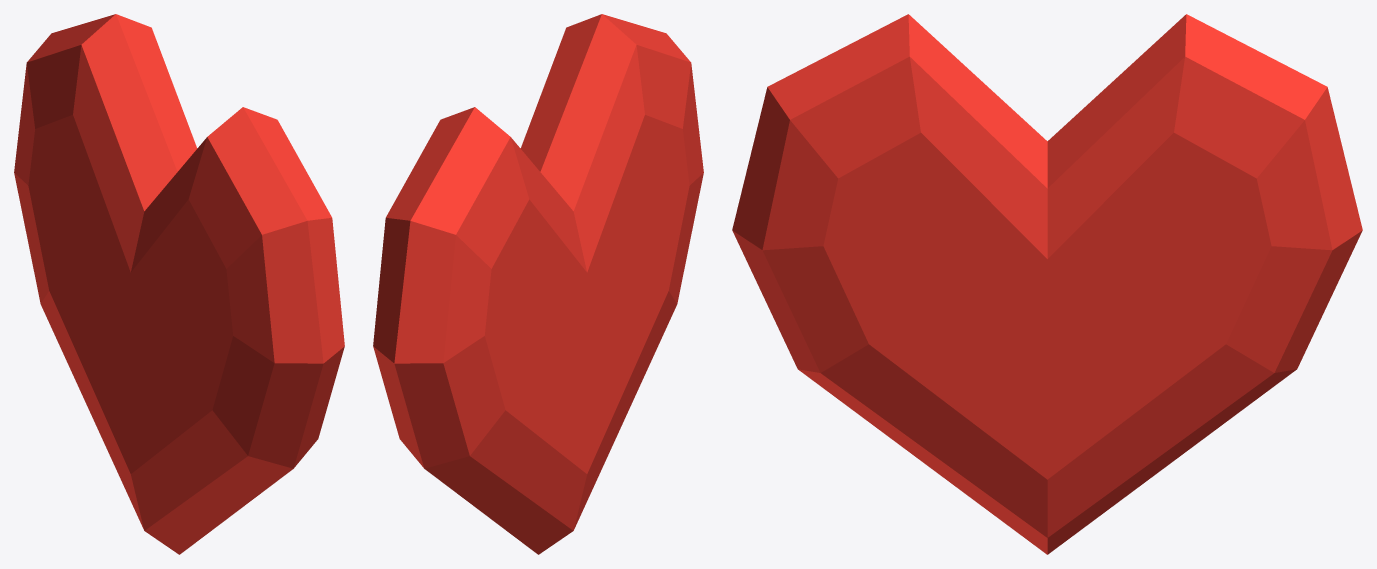
Rendered from heart.gltf.
The picture shows the model from 3 angles, left to right: view 1: azimuth 30°, elevation 25°; view 2: azimuth 150°, elevation 25°; view 3: azimuth 270°, elevation 25°; orthographic projection. The views are drawn at different scales.
Parts seen in each view (by area): view 1: Heart; view 2: Heart; view 3: Heart.
Part boxes in pixels (x1,y1,x2,y2): Heart: [14, 14, 344, 554]; Heart: [373, 14, 703, 554]; Heart: [732, 14, 1362, 554].
Size of the model in its own units: 0.8929 by 4.33 by 4.58.
